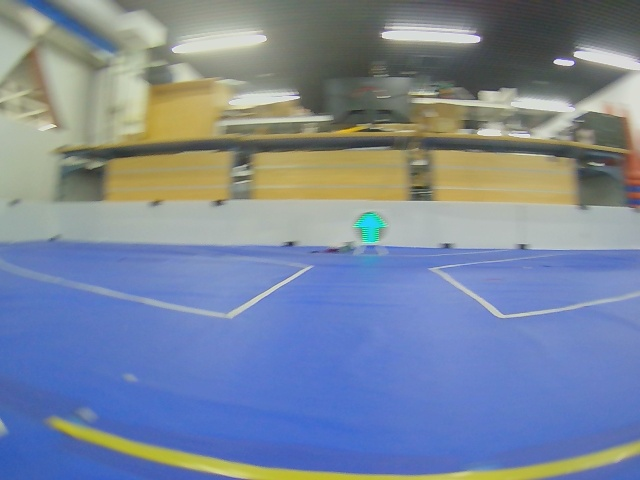straight_green: (353, 211, 388, 245)
